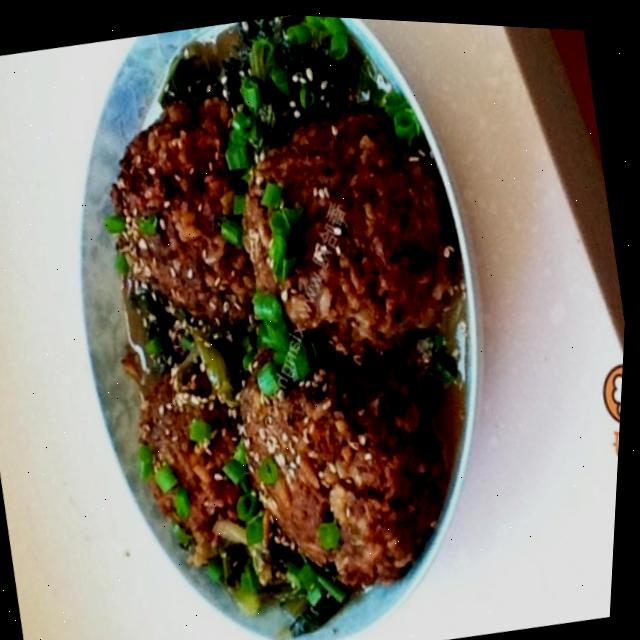猪肉菜式: (12, 2, 537, 640)
